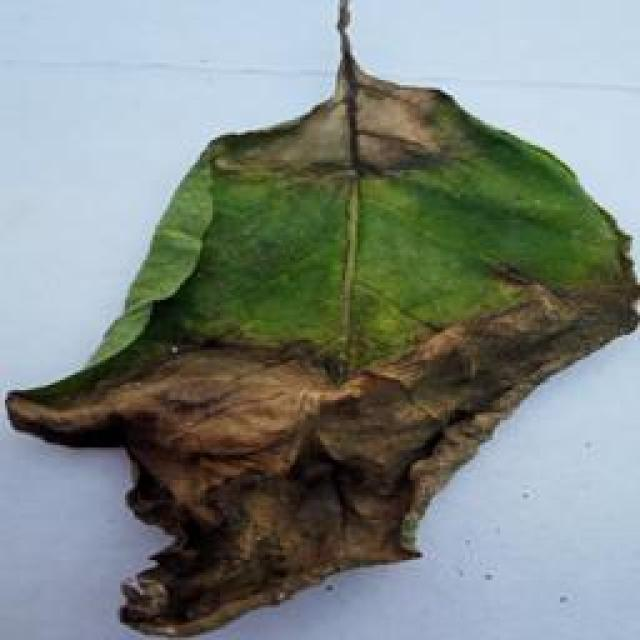Potato_Late_Blight: (11, 7, 625, 636)
